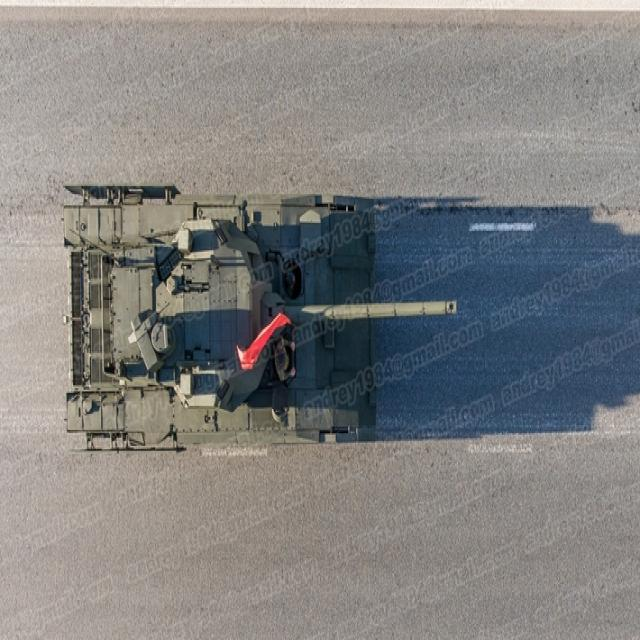tank: (56, 179, 462, 463)
